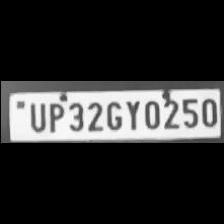0: (140, 98, 160, 130), (199, 96, 219, 127)
2: (160, 96, 180, 130), (84, 98, 103, 132)
3: (64, 100, 84, 132)
5: (178, 96, 198, 128)
G: (104, 99, 122, 131)
P: (44, 100, 64, 132)
U: (25, 100, 45, 132)
Y: (122, 97, 140, 130)
